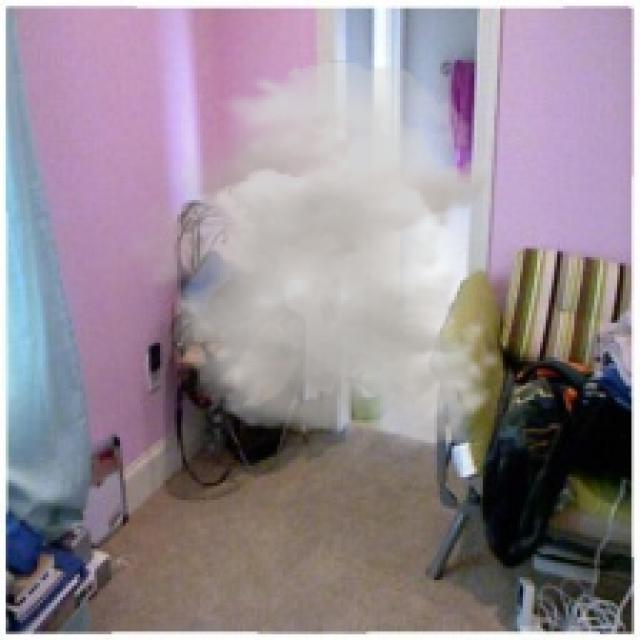Smoke: (117, 60, 506, 449)
